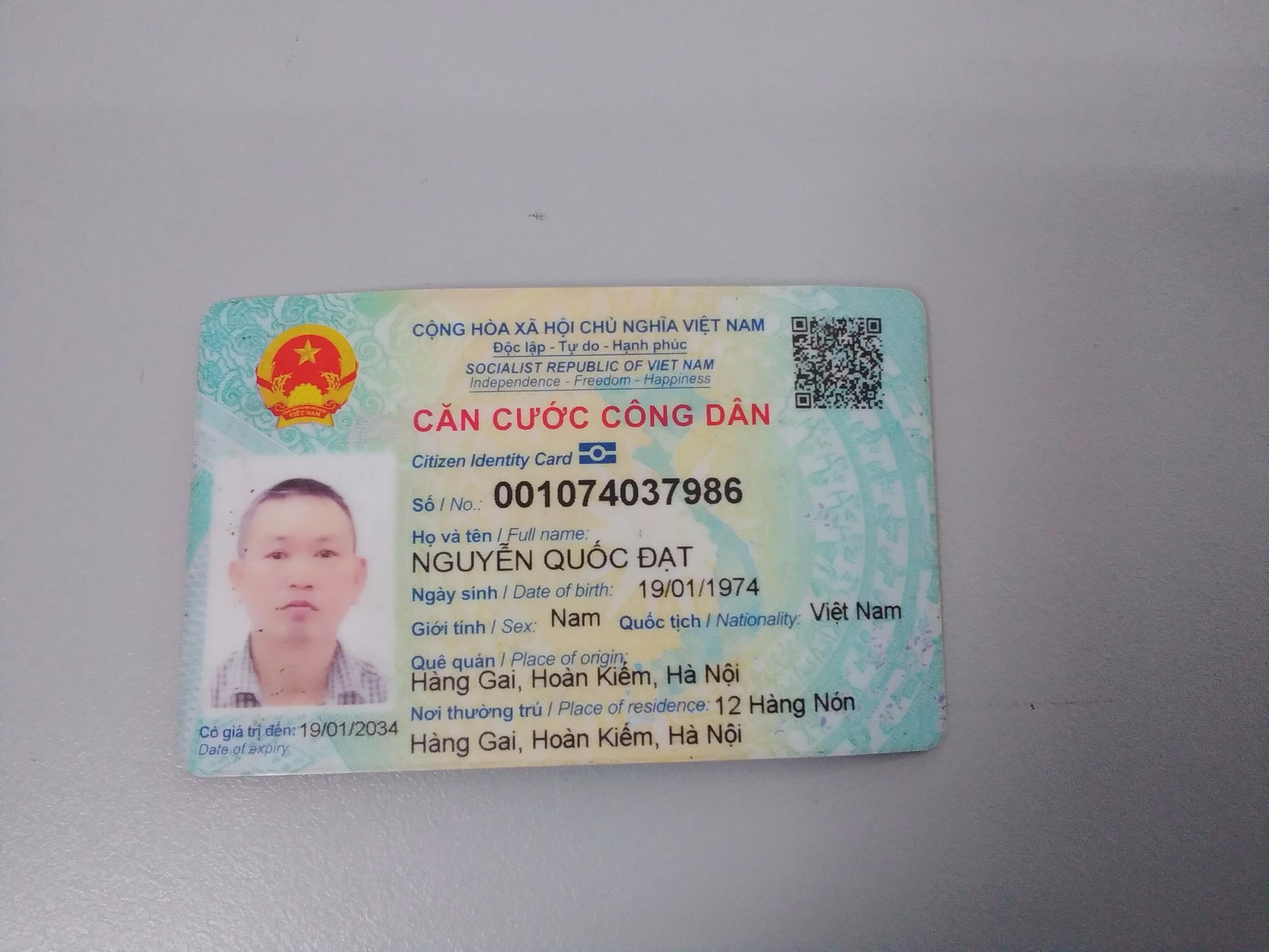ID: (484, 469, 762, 513)
birth: (707, 680, 863, 718), (626, 570, 762, 601)
name: (404, 538, 706, 578)
place: (401, 652, 750, 699)
residence: (400, 716, 754, 762)
